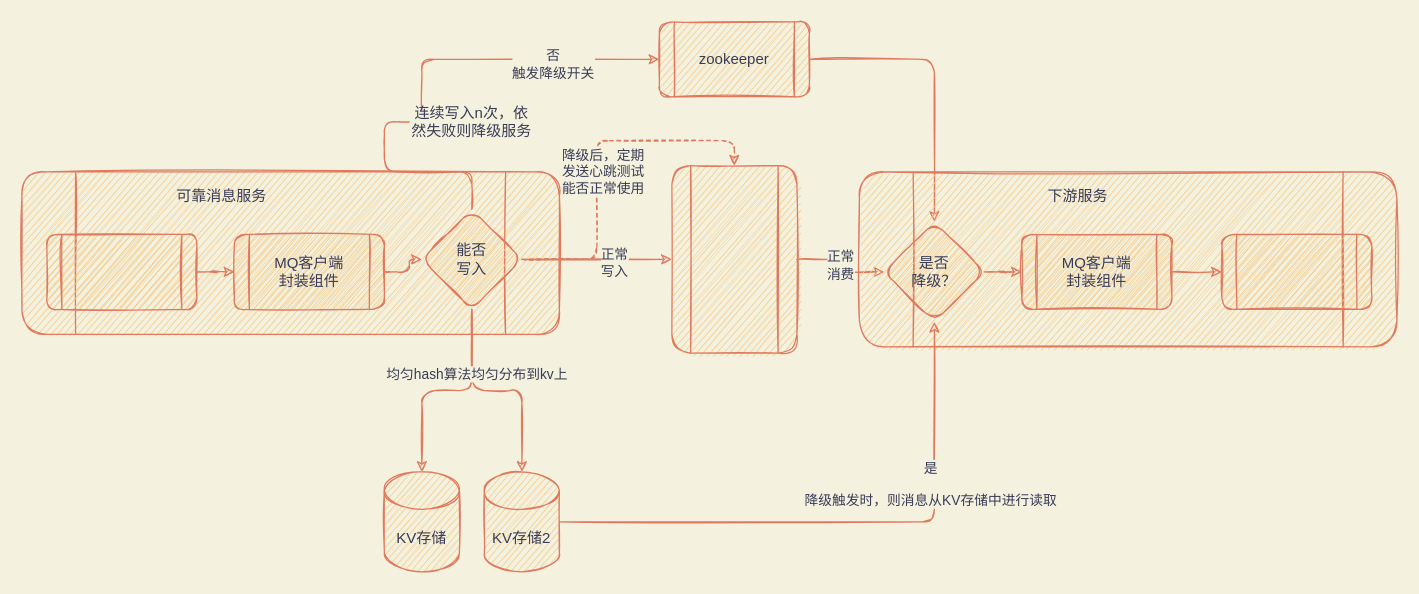
This 1419x594 diagram has some shape labels left out. The shapes that lost their labels are listed below. From the top down, each one's box as (x1, y1, x2, y2) in pixels, then its label:
(46, 233, 197, 309): 可靠消息 业务逻辑
(671, 164, 797, 353): MQ中间件
(1221, 233, 1372, 309): 下游业务逻辑
